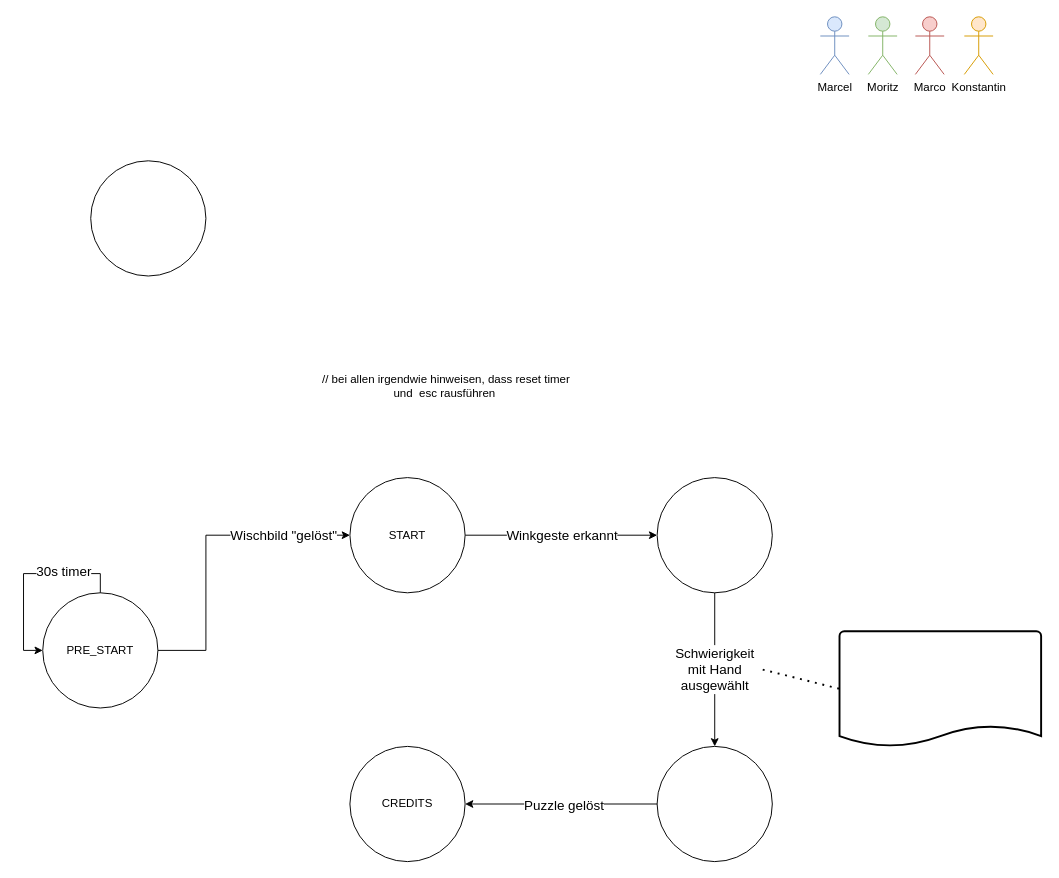
The diagram is 1059 pixels wide and 878 high, and some of its shapes have lost their labels. The box of each missing label's shape, as (x1, y1, x2, y2) in pixels:
class PuzzleDifficulty ( Enum ): NONE = 0 NORMAL = 1 HARD = 2 IMPOSSIBLE = 3: (838, 630, 1042, 747)
DIFFICULTY _SELECT: (656, 477, 772, 593)
IN_USE: (656, 745, 772, 862)
Start des Programmes: (90, 160, 206, 276)
